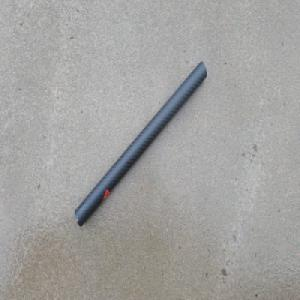LuggagePart: (74, 59, 207, 228)
